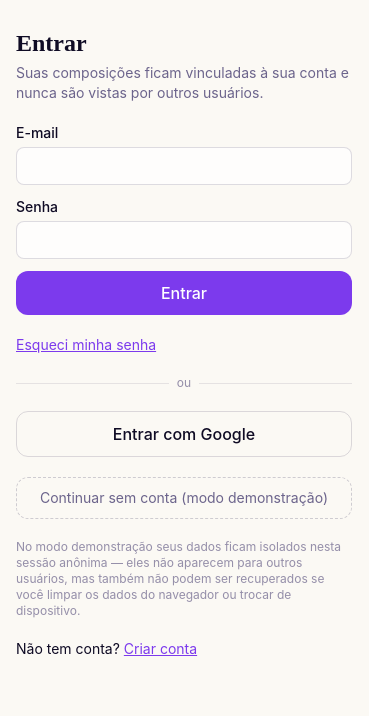
Login — Google popup sign-in › shows a friendly message when the popup is closed by the user
This screenshot has width=369, height=716.
Click the button "Entrar com Google".
click(184, 434)  # box left=16, top=411, right=352, bottom=457
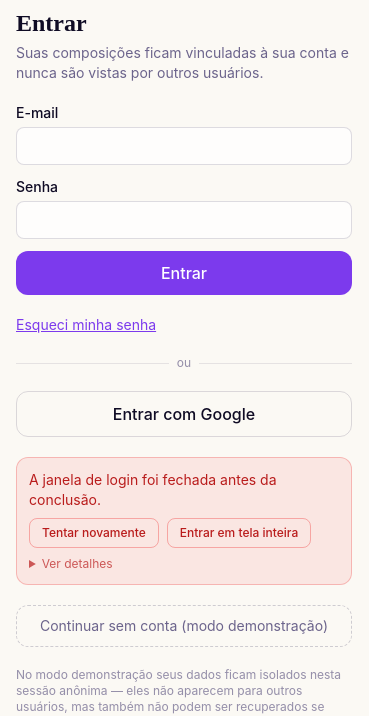
Expected: the text "A janela de login foi fechada antes da conclusão." is shown, left=29, top=471, right=277, bottom=508
